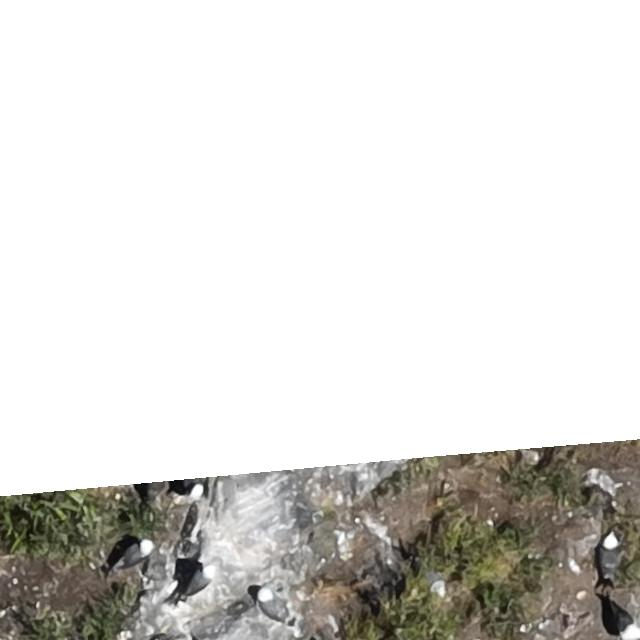umineko: (604, 594, 640, 640), (259, 587, 291, 621), (116, 540, 150, 568), (600, 534, 621, 574), (185, 569, 212, 597), (166, 482, 204, 500)
